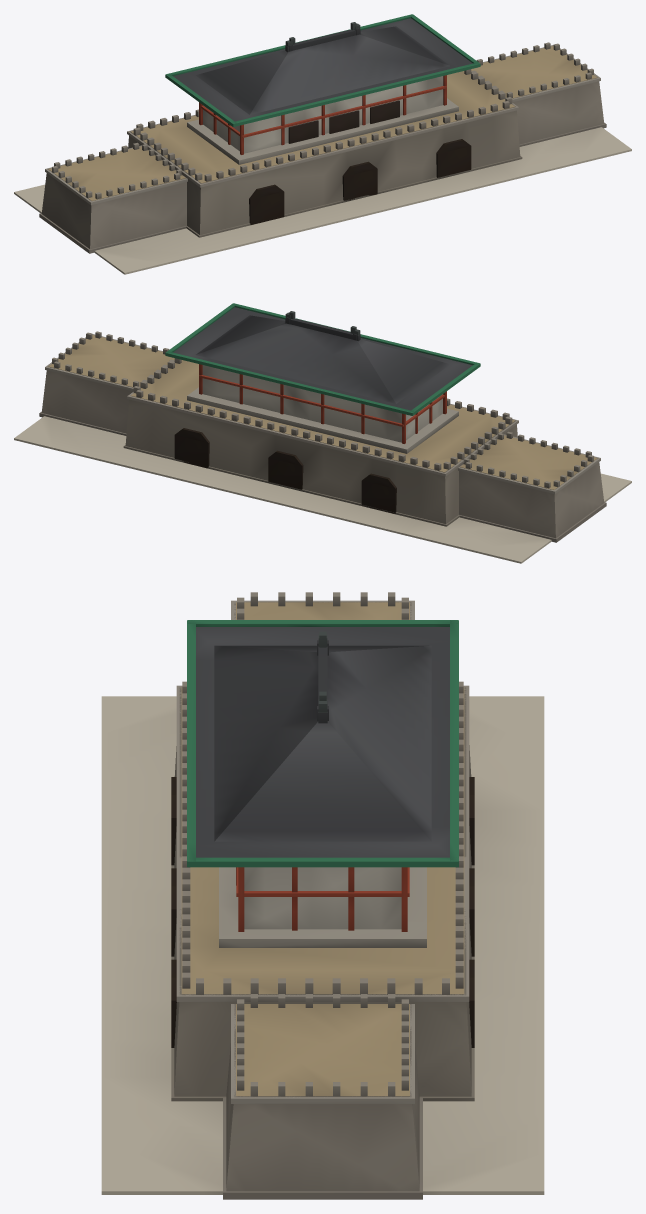
Rendered from zhuquemen.glb.
The picture shows the model from 3 angles, top to bottom: view 1: azimuth 30°, elevation 25°; view 2: azimuth 150°, elevation 25°; view 3: azimuth 270°, elevation 25°; orthographic projection. The views are drawn at different scales.
Visible parts, largest first — view 1: p0_gates, p2_roofs, p1_halls; view 2: p0_gates, p2_roofs, p1_halls; view 3: p0_gates, p2_roofs, p1_halls.
Part boxes in pixels (x1=…): p0_gates: x1=14, y1=42, x2=631, y2=274; p2_roofs: x1=165, y1=14, x2=480, y2=126; p1_halls: x1=187, y1=75, x2=458, y2=164; p0_gates: x1=14, y1=331, x2=631, y2=563; p2_roofs: x1=165, y1=303, x2=480, y2=415; p1_halls: x1=187, y1=364, x2=458, y2=453; p0_gates: x1=101, y1=592, x2=544, y2=1199; p2_roofs: x1=187, y1=620, x2=458, y2=867; p1_halls: x1=219, y1=867, x2=426, y2=947.
Size of the model in its own units: 91.72 by 24.05 by 34.
